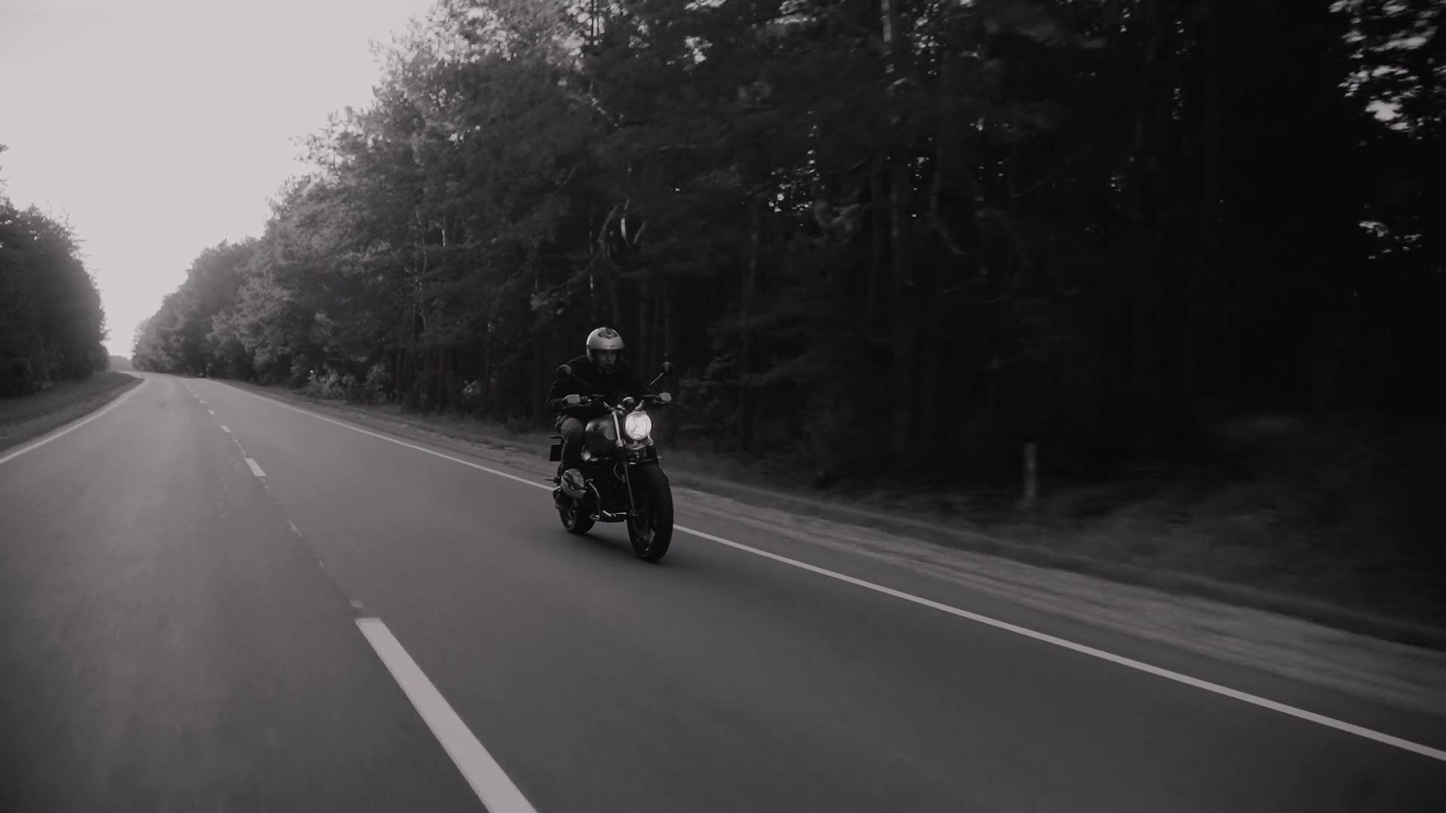driver: (543, 326, 683, 563)
helmet: (586, 327, 626, 376)
